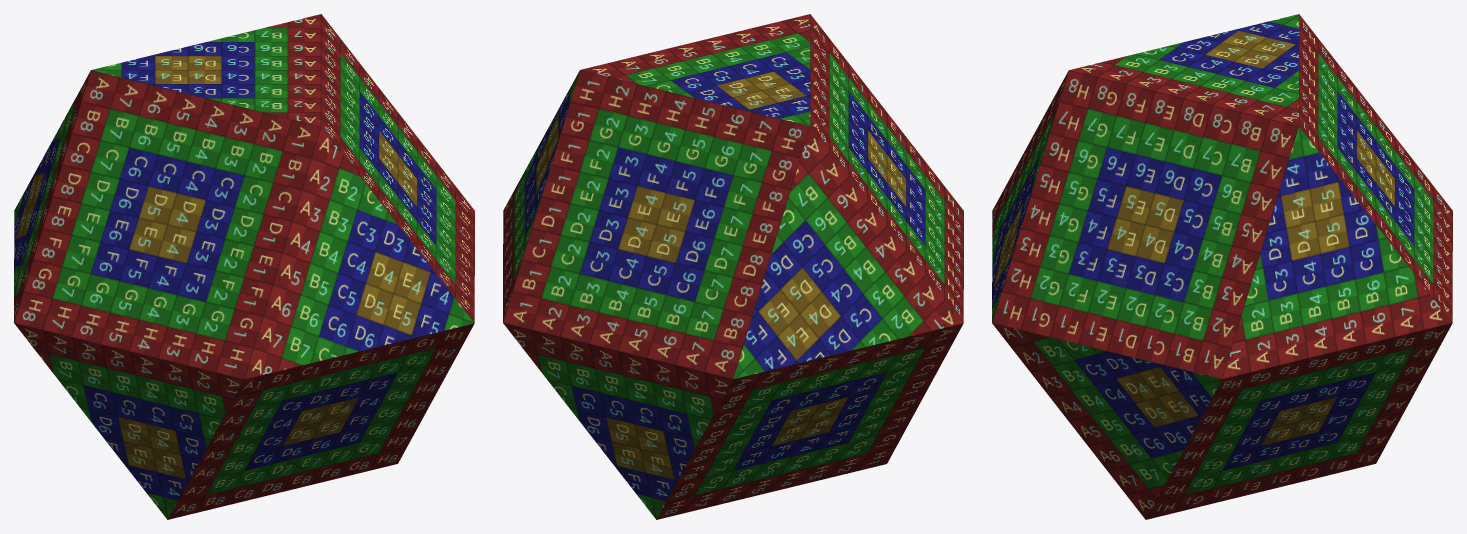
File: Carbon atom.dae
3 views of the same model, side by side, from view 1: azimuth 30°, elevation 25°; view 2: azimuth 150°, elevation 25°; view 3: azimuth 270°, elevation 25° (orthographic).
Visible parts, largest first — view 1: Cuboctahedron; view 2: Cuboctahedron; view 3: Cuboctahedron.
Part boxes in pixels (box(x1,y1,x2,y2)): Cuboctahedron: box(14, 14, 474, 519); Cuboctahedron: box(503, 14, 963, 519); Cuboctahedron: box(992, 14, 1452, 519).
Bounding box in the file's own units: 0.4311 × 0.3735 × 0.352.
